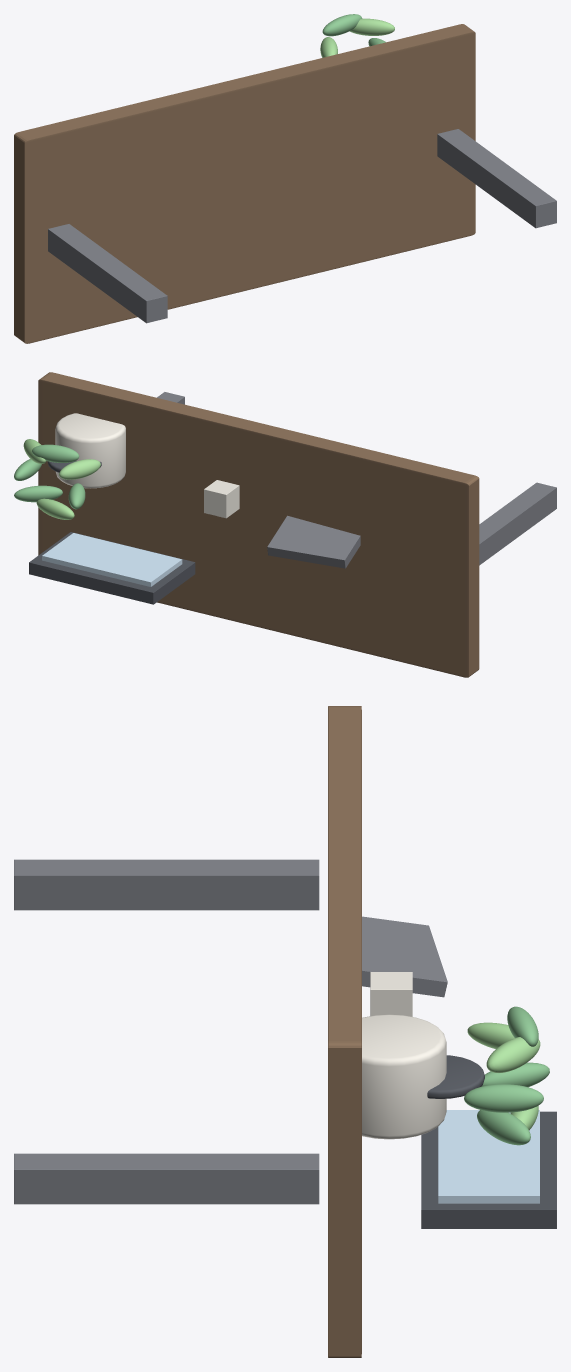
Rendered from desk.glb.
3 views of the same model, one above another, from view 1: azimuth 30°, elevation 25°; view 2: azimuth 150°, elevation 25°; view 3: azimuth 270°, elevation 25° (orthographic). The views are drawn at different scales.
Parts seen in each view (by area): view 1: top, leg_0.82, leg_-0.82, leaf_1, leaf_2; view 2: top, screen, pot, laptop, monitor, leg_-0.82, mug, leaf_2, leaf_6, leaf_3, leaf_5, leaf_0; view 3: top, leg_-0.82, leg_0.82, pot, screen, monitor, laptop, mug, leaf_0, soil, leaf_6, leaf_1 (+3 smaller).
Part boxes in pixels (bbox=[...]): top: bbox=[14, 24, 475, 343]; leg_0.82: bbox=[437, 129, 556, 228]; leg_-0.82: bbox=[48, 224, 167, 323]; leaf_1: bbox=[349, 18, 394, 35]; leaf_2: bbox=[322, 14, 362, 36]; top: bbox=[38, 372, 479, 677]; screen: bbox=[42, 533, 182, 586]; pot: bbox=[55, 413, 125, 488]; laptop: bbox=[267, 515, 360, 568]; monitor: bbox=[29, 532, 195, 604]; leg_-0.82: bbox=[479, 482, 556, 565]; mug: bbox=[204, 480, 239, 518]; leaf_2: bbox=[32, 444, 79, 462]; leaf_6: bbox=[14, 485, 62, 502]; leaf_3: bbox=[59, 459, 100, 479]; leaf_5: bbox=[36, 498, 74, 519]; leaf_0: bbox=[14, 459, 41, 480]; top: bbox=[328, 706, 361, 1357]; leg_-0.82: bbox=[14, 859, 319, 910]; leg_0.82: bbox=[14, 1153, 319, 1204]; pot: bbox=[362, 1014, 446, 1139]; screen: bbox=[438, 1110, 539, 1203]; monitor: bbox=[421, 1111, 556, 1228]; laptop: bbox=[362, 916, 447, 997]; mug: bbox=[370, 972, 412, 1016]; leaf_0: bbox=[464, 1084, 543, 1112]; soil: bbox=[427, 1055, 484, 1098]; leaf_6: bbox=[477, 1110, 530, 1145]; leaf_1: bbox=[486, 1037, 540, 1072].
Bounding box in the file's own units: 1.9 × 0.82 × 1.28.
